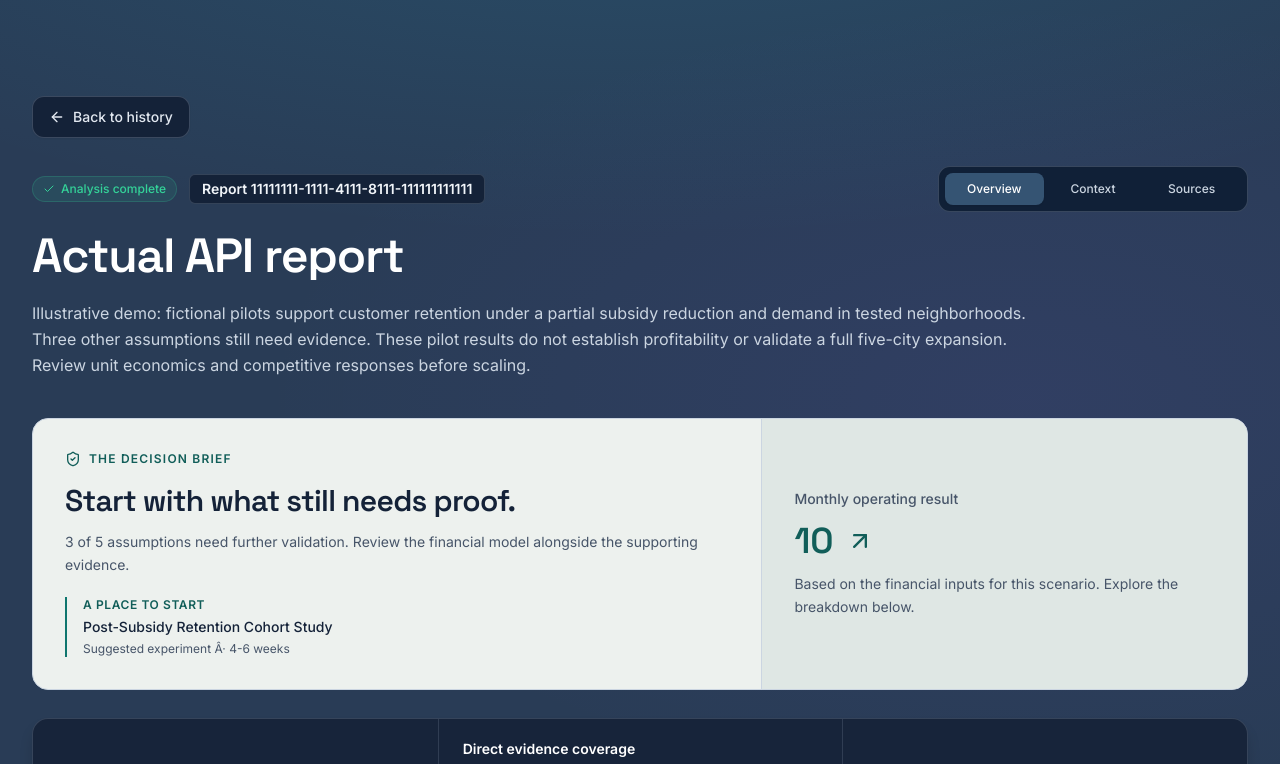
Test: shows backend warnings, nullable metrics and unavailable source links safely
This screenshot has width=1280, height=764.
Click the button "sources": [1192, 189] box [1142,173,1241,205]
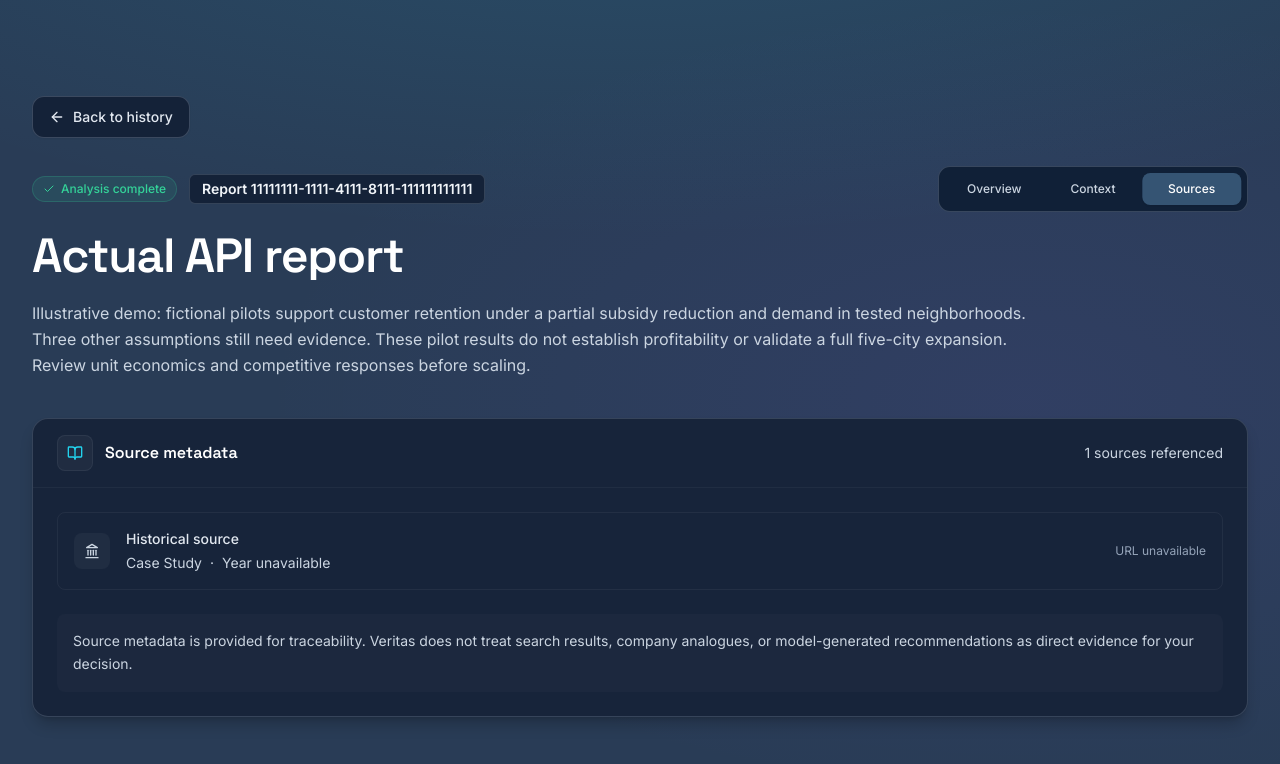
Check: the text "URL unavailable" is shown, box [1115,543,1206,559]
